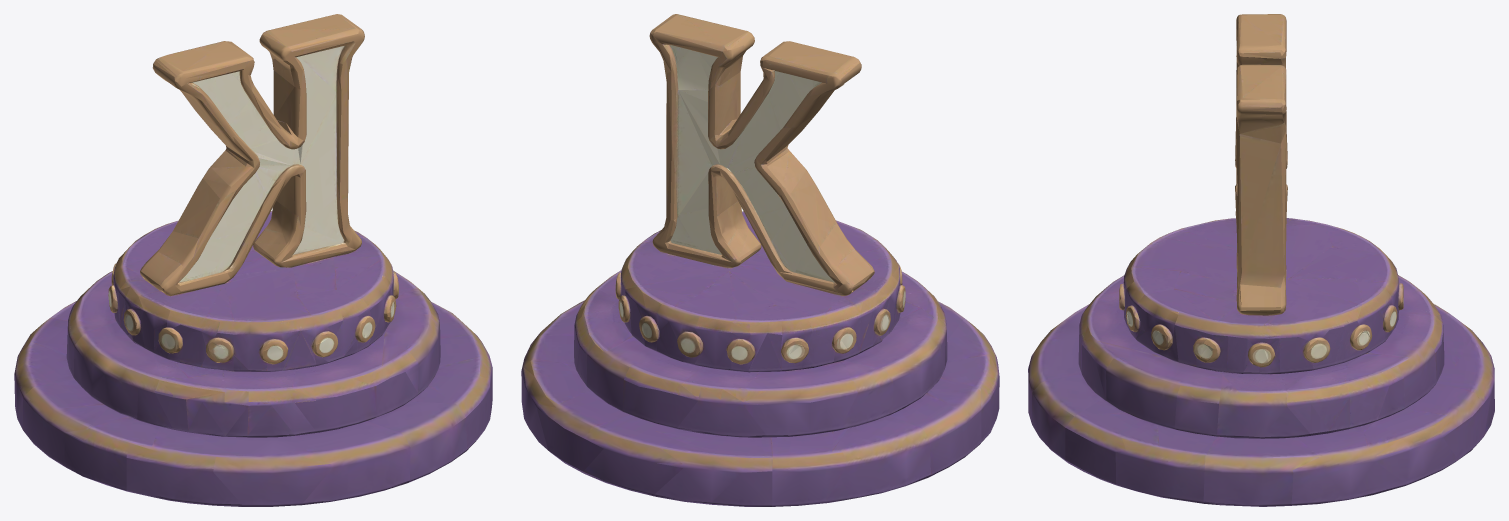
The model's file is monument.glb.
The picture shows the model from 3 angles, left to right: view 1: azimuth 30°, elevation 25°; view 2: azimuth 150°, elevation 25°; view 3: azimuth 270°, elevation 25°; orthographic projection. The views are drawn at different scales.
Bounding box in the file's own units: 1.9 × 1.6 × 1.9.
1 material, 1 textured.
